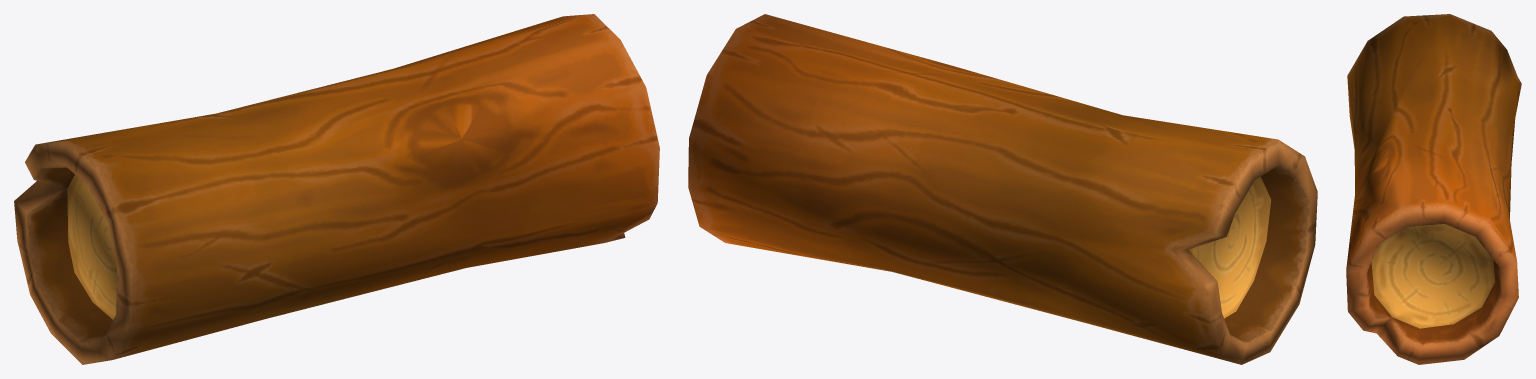
Rendered from NEW LOG .fbx.
3 renders of one model, left to right at view 1: azimuth 30°, elevation 25°; view 2: azimuth 150°, elevation 25°; view 3: azimuth 270°, elevation 25°, orthographic. The views are drawn at different scales.
Visible parts, largest first — view 1: log_low; view 2: log_low; view 3: log_low.
Boxes of the visible parts, left/top/right/bottom form: log_low: left=14, top=14, right=659, bottom=364; log_low: left=688, top=14, right=1317, bottom=364; log_low: left=1346, top=14, right=1521, bottom=364.
Bounding box in the file's own units: 223 × 84.46 × 84.49.
